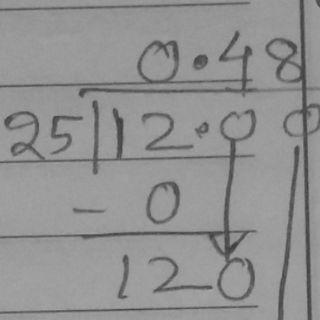.: (191, 51, 208, 72), (196, 118, 212, 138)
0: (135, 39, 181, 83), (145, 179, 184, 225)
1: (107, 106, 128, 161), (116, 252, 135, 302)
2: (146, 251, 216, 295), (138, 108, 195, 152), (3, 106, 47, 160)
4: (218, 27, 254, 92)
5: (46, 107, 83, 158)
8: (264, 35, 302, 83)
